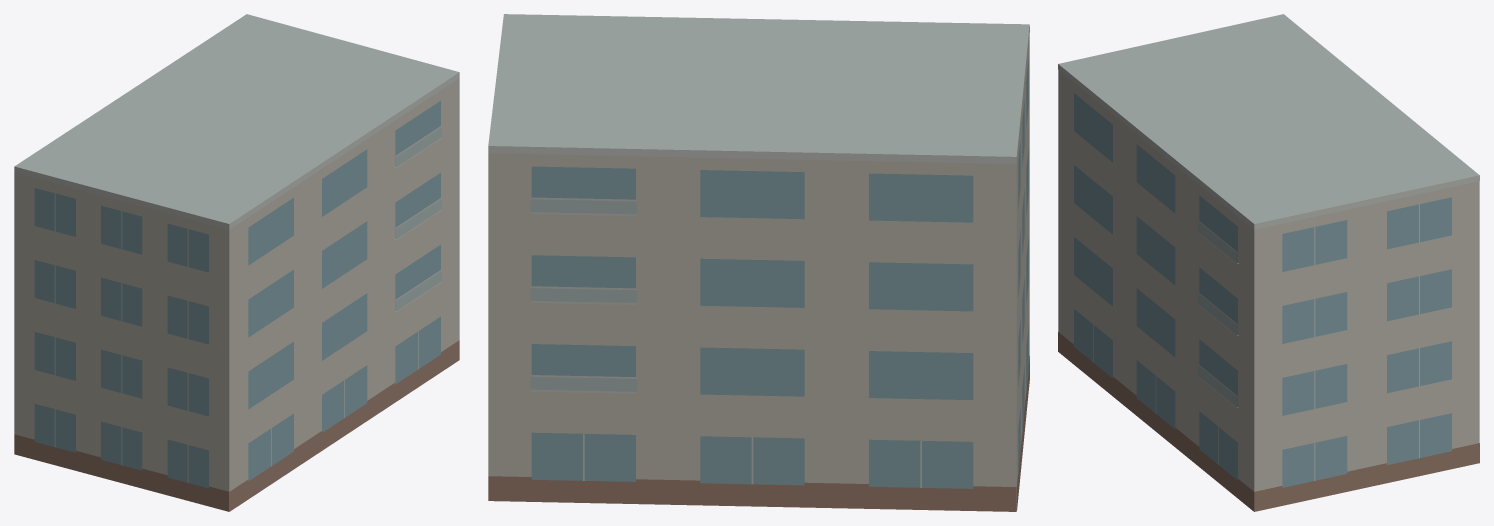
Rendered from survey-upis-32822713.glb.
The picture shows the model from 3 angles, left to right: view 1: azimuth 30°, elevation 25°; view 2: azimuth 150°, elevation 25°; view 3: azimuth 270°, elevation 25°; orthographic projection. The views are drawn at different scales.
Parts seen in each view (by area): view 1: survey-upis-32822713.tmp; view 2: survey-upis-32822713.tmp; view 3: survey-upis-32822713.tmp.
Boxes of the visible parts, x1,y1,x2,y2 form: survey-upis-32822713.tmp: [14, 14, 459, 511]; survey-upis-32822713.tmp: [488, 14, 1029, 511]; survey-upis-32822713.tmp: [1058, 14, 1479, 511].
Bounding box in the file's own units: 18.95 × 12.1 × 16.08.
